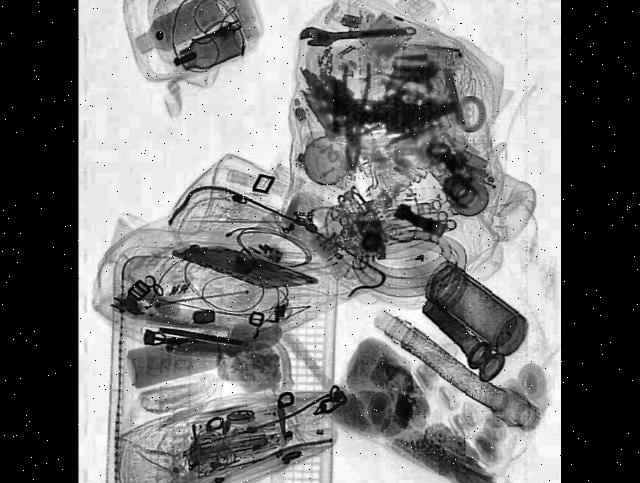Wrench: (302, 17, 417, 48)
